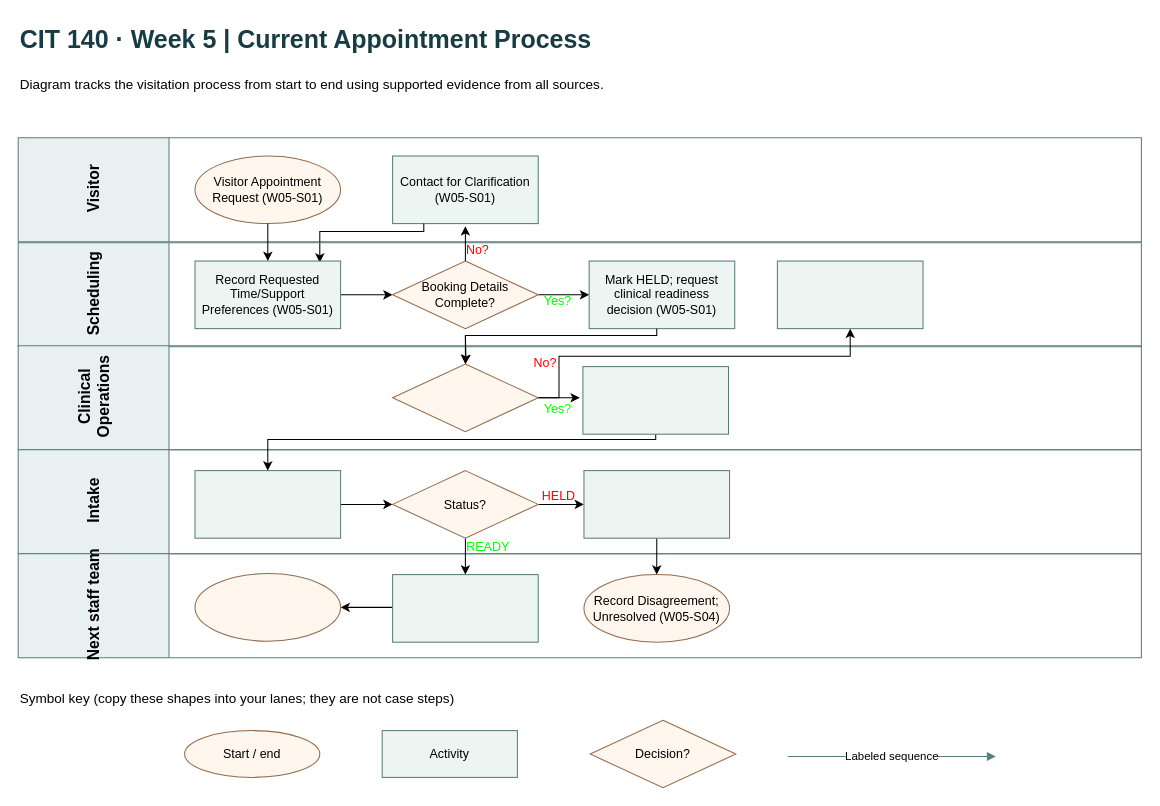
This 1160x806 diagram has some shape labels left out. Each missing label, with the centre of its shape:
"Appointment stays HELD and awaits confirmation (W05-S02)" goes at (x=849, y=294).
"Check status (W05-S03)" goes at (x=267, y=504).
"Confirm support arrangements and pass visitor to next team (W05-S03)" goes at (x=465, y=608).
"Contact Scheduling/Clinical Operations (W05-S03)" goes at (x=656, y=504).
"Mark slot as READY(W05-S02)" goes at (x=655, y=400).
"Room/Clinician ready?" goes at (x=465, y=397).
"Visitor handoff to next team" goes at (x=267, y=607).
